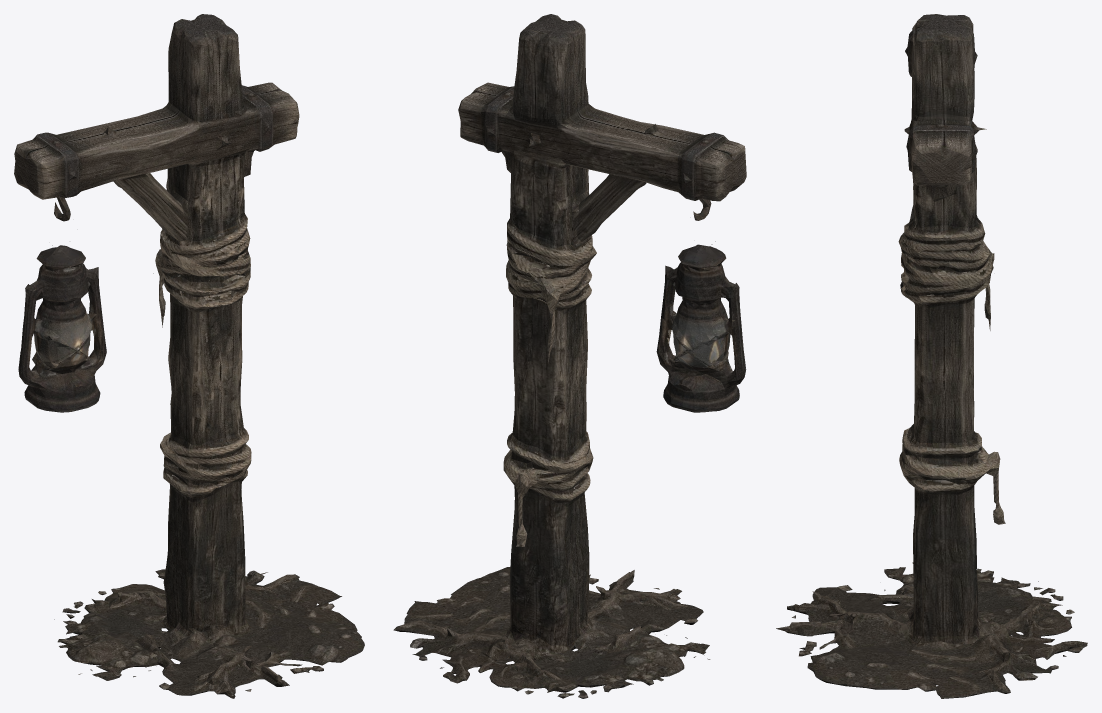
File: lantern_post.glb
3 views of the same model, side by side, from view 1: azimuth 30°, elevation 25°; view 2: azimuth 150°, elevation 25°; view 3: azimuth 270°, elevation 25° (orthographic).
Visible parts, largest first — view 1: lo; view 2: lo; view 3: lo.
Boxes of the visible parts, x1=… form: lo: x1=14, y1=14, x2=364, y2=698; lo: x1=393, y1=14, x2=746, y2=698; lo: x1=776, y1=14, x2=1087, y2=698.
Size of the model in its own units: 1.57 by 2.8 by 1.3.
Materials: 1 (1 with a texture image).
